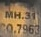character: (4, 10, 13, 18), (27, 24, 34, 34), (13, 11, 21, 18), (16, 23, 21, 34), (24, 11, 30, 19)
